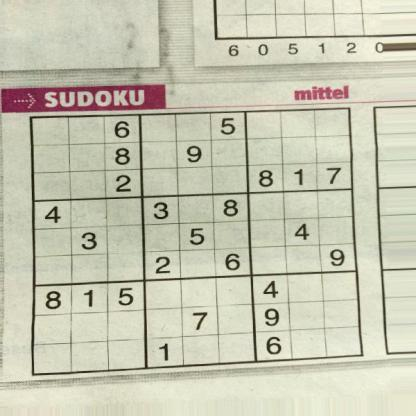sudoku: (26, 104, 366, 377)
